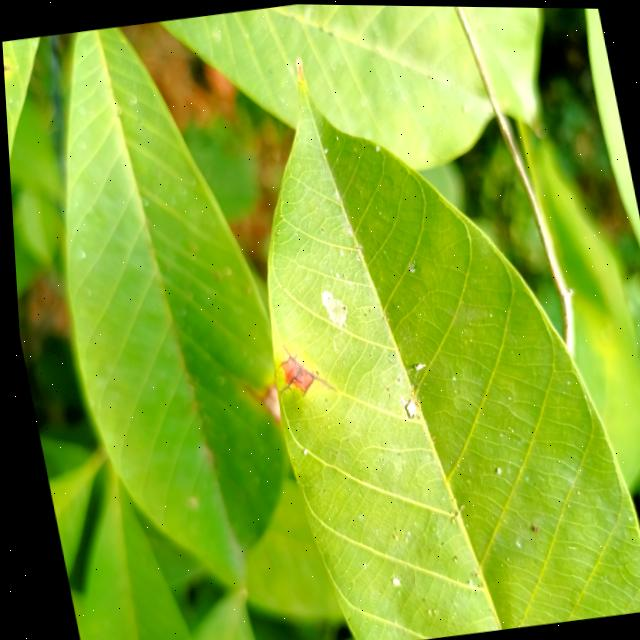Corynespora: (265, 336, 333, 401)
